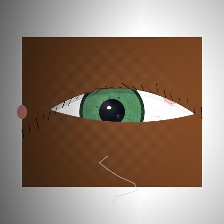foreign_body_visible: (150, 77, 194, 111)
